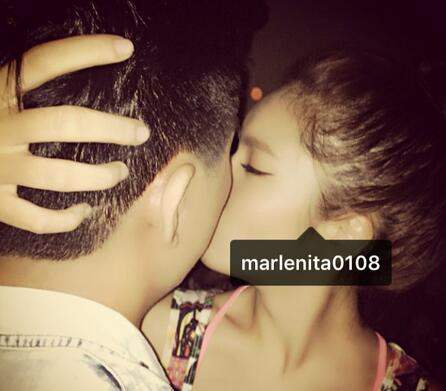face: (201, 63, 358, 284)
